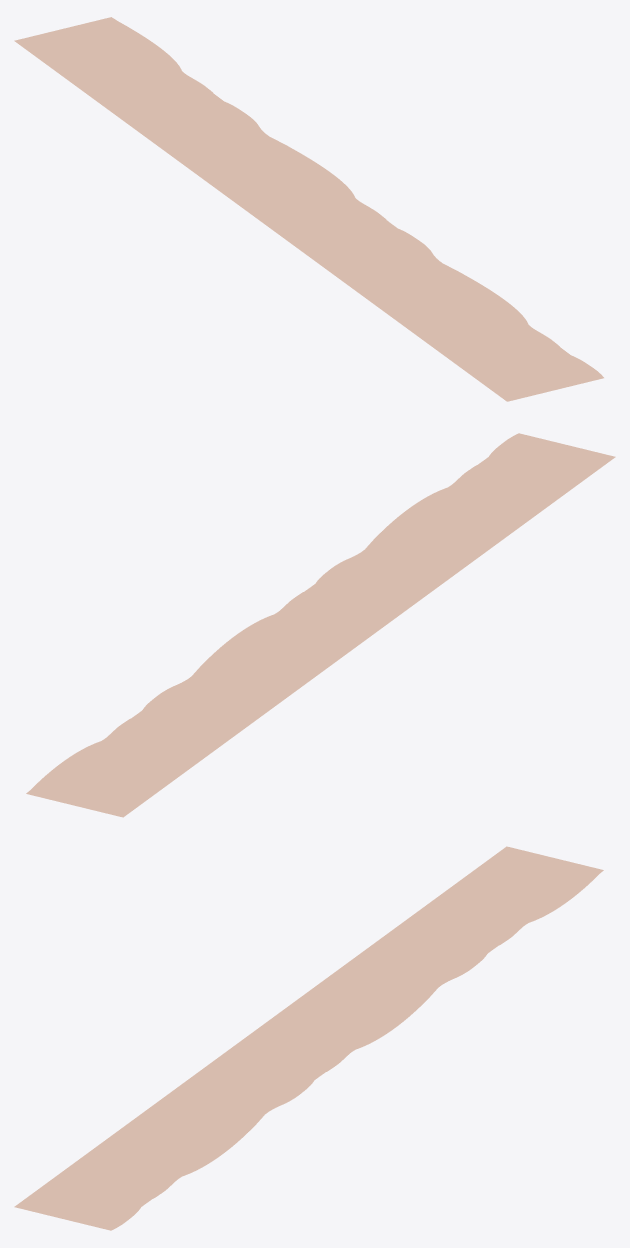
Rendered from Mesh_Adventure_Sand_04_Ground.fbx.
3 views of the same model, one above another, from view 1: azimuth 30°, elevation 25°; view 2: azimuth 150°, elevation 25°; view 3: azimuth 330°, elevation 25° (orthographic).
Visible parts, largest first — view 1: Adventure_Sand_04_Ground; view 2: Adventure_Sand_04_Ground; view 3: Adventure_Sand_04_Ground.
Boxes of the visible parts, box(x1,y1,x2,y2) form: Adventure_Sand_04_Ground: box(14, 17, 603, 401); Adventure_Sand_04_Ground: box(26, 433, 615, 817); Adventure_Sand_04_Ground: box(14, 846, 603, 1230).
Bounding box in the file's own units: 448 × 3.81e-06 × 3500.
